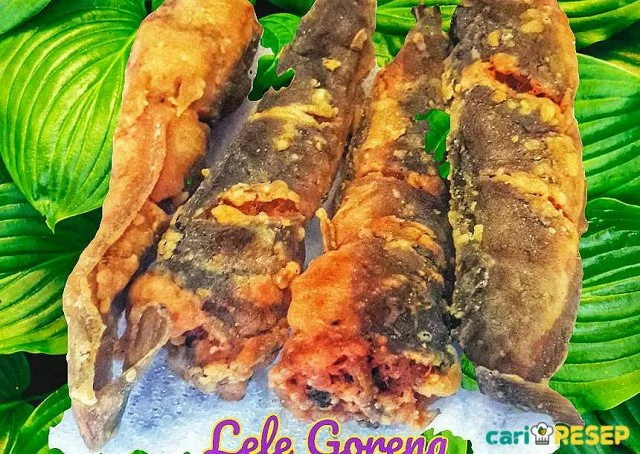pecel_lele: (291, 56, 466, 435), (447, 5, 573, 420), (60, 42, 189, 438)
